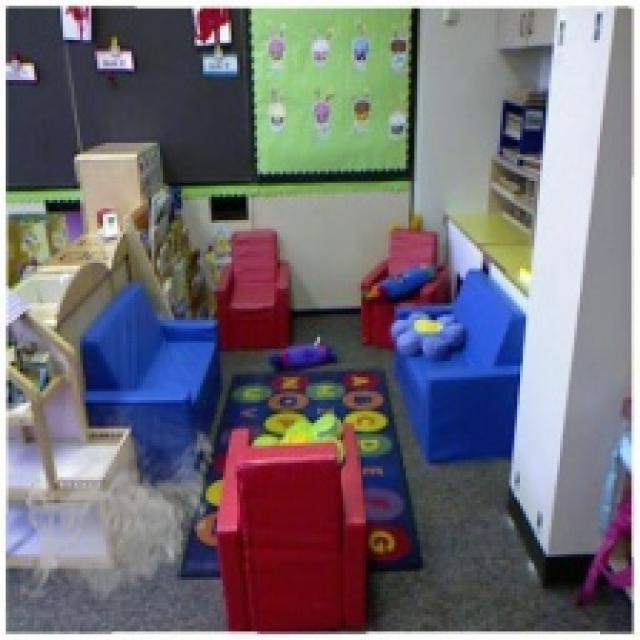smoke: (20, 406, 220, 606)
